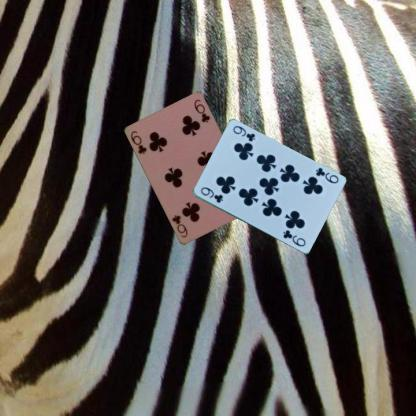6c: (128, 128, 148, 156)
9c: (312, 165, 340, 185), (198, 184, 224, 204)
